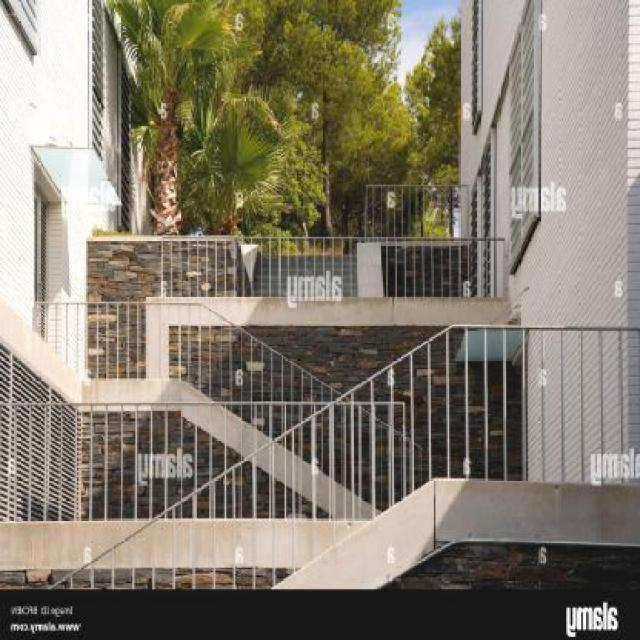stair: (120, 281, 497, 554)
